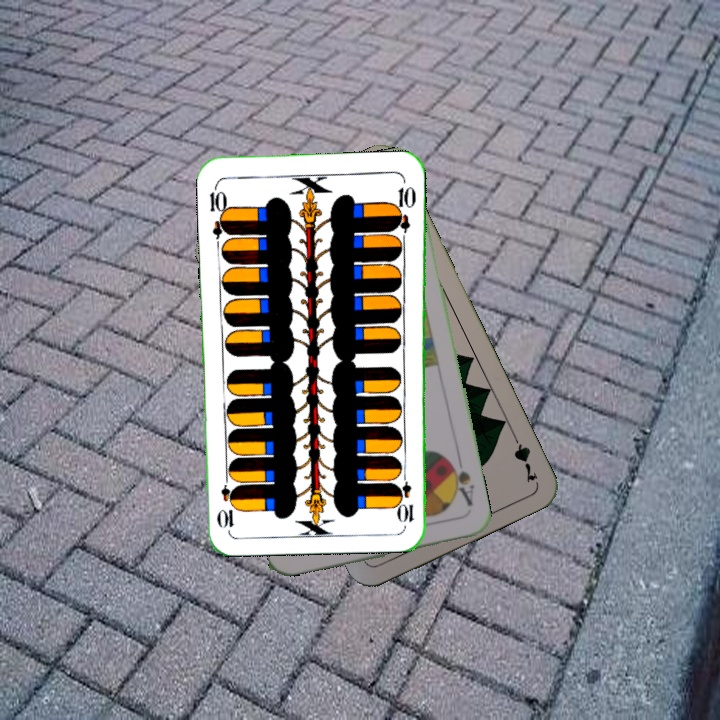E10: (206, 181, 232, 240), (397, 466, 416, 525)
G7: (507, 428, 540, 485)
SA: (445, 456, 477, 509)
